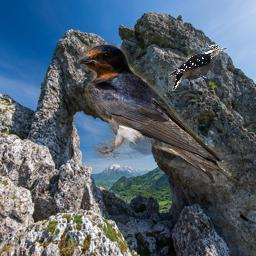Swallow: (77, 43, 248, 190)
Woodpecker: (168, 44, 228, 91)
